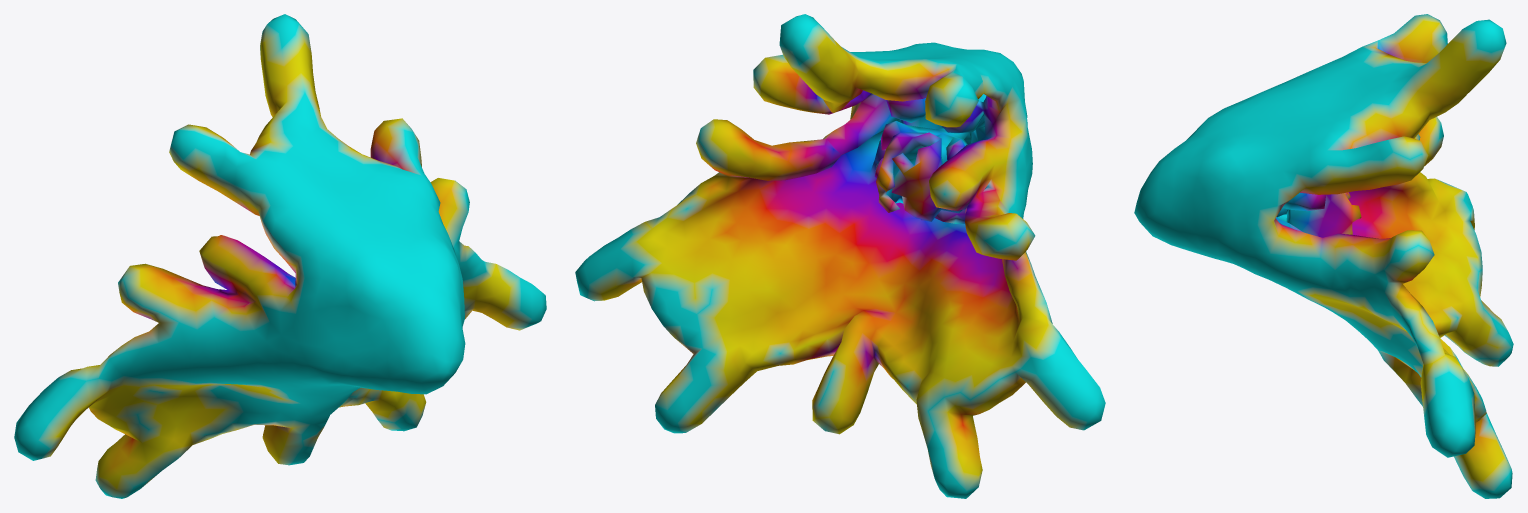
The model's file is jelly_102.gltf.
3 renders of one model, left to right at view 1: azimuth 30°, elevation 25°; view 2: azimuth 150°, elevation 25°; view 3: azimuth 270°, elevation 25°, orthographic. The views are drawn at different scales.
Parts seen in each view (by area): view 1: jellysquid3; view 2: jellysquid3; view 3: jellysquid3.
Part boxes in pixels (x1,y1,x2,y2): jellysquid3: (14,14,546,498); jellysquid3: (575,14,1105,498); jellysquid3: (1134,14,1513,498).
Bounding box in the file's own units: 14.72 × 11.87 × 9.73.
